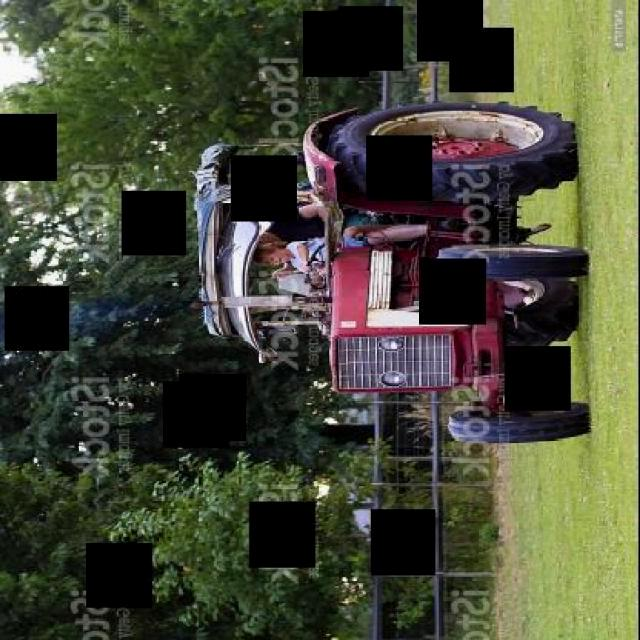Tratores - v5 YOLO V8L 2024-11-13: (163, 89, 639, 502)
